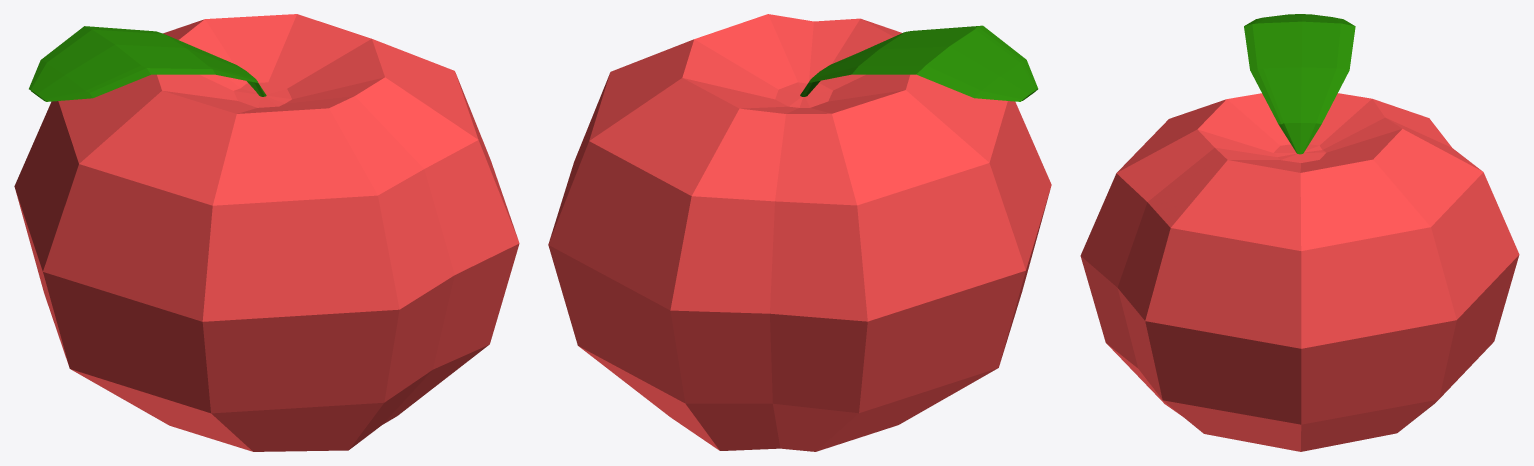
File: peach01.obj
3 views of the same model, side by side, from view 1: azimuth 30°, elevation 25°; view 2: azimuth 150°, elevation 25°; view 3: azimuth 270°, elevation 25° (orthographic). The views are drawn at different scales.
Parts seen in each view (by area): view 1: Cylinder; view 2: Cylinder; view 3: Cylinder.
Part boxes in pixels (box(x1,y1,x2,y2)): Cylinder: box(14, 14, 519, 451); Cylinder: box(548, 14, 1051, 451); Cylinder: box(1080, 14, 1519, 451).
Size of the model in its own units: 0.0899 by 0.0803 by 0.0898.
Materials: 1 (1 with a texture image).
